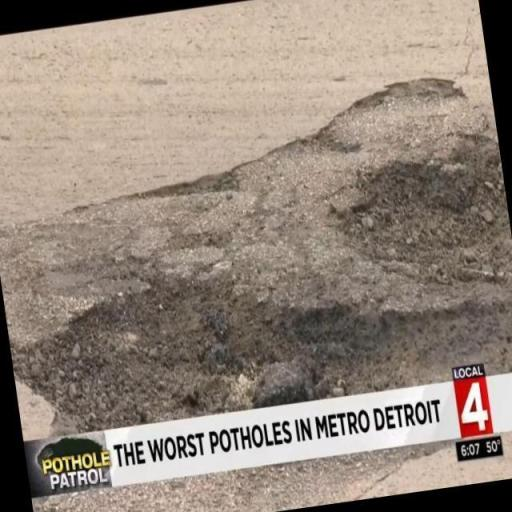pothole: (0, 86, 512, 407)
